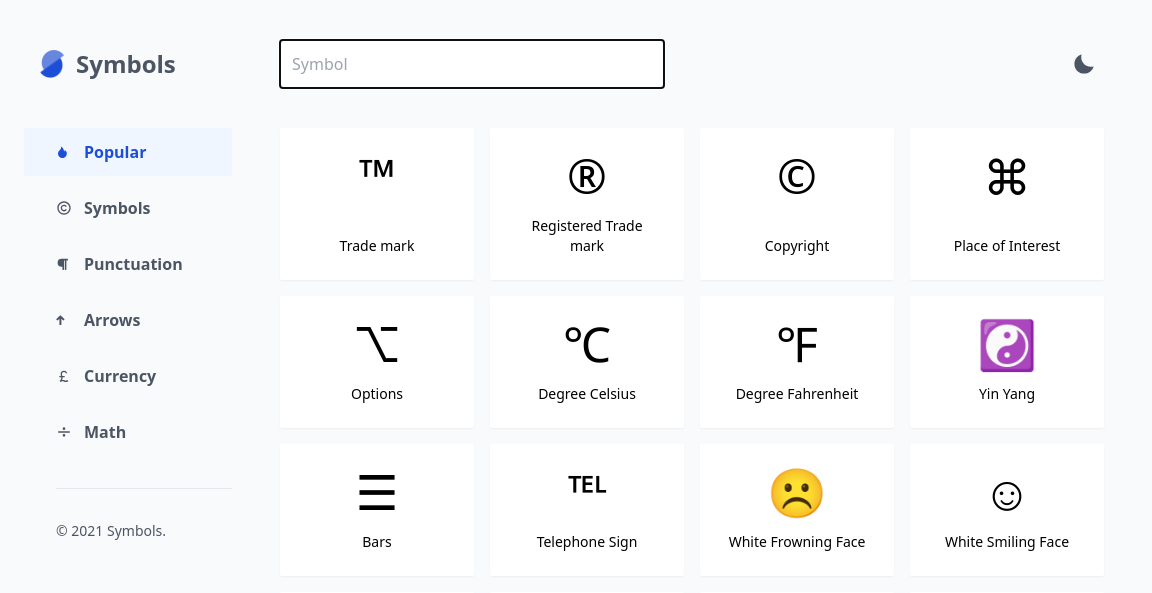
Scenario: Filter › Selects another category when clicked.
Expected: the text "⌘" is shown, [983, 152, 1031, 200]
Click the button "Math".
click(128, 432)  # box [24, 408, 232, 456]
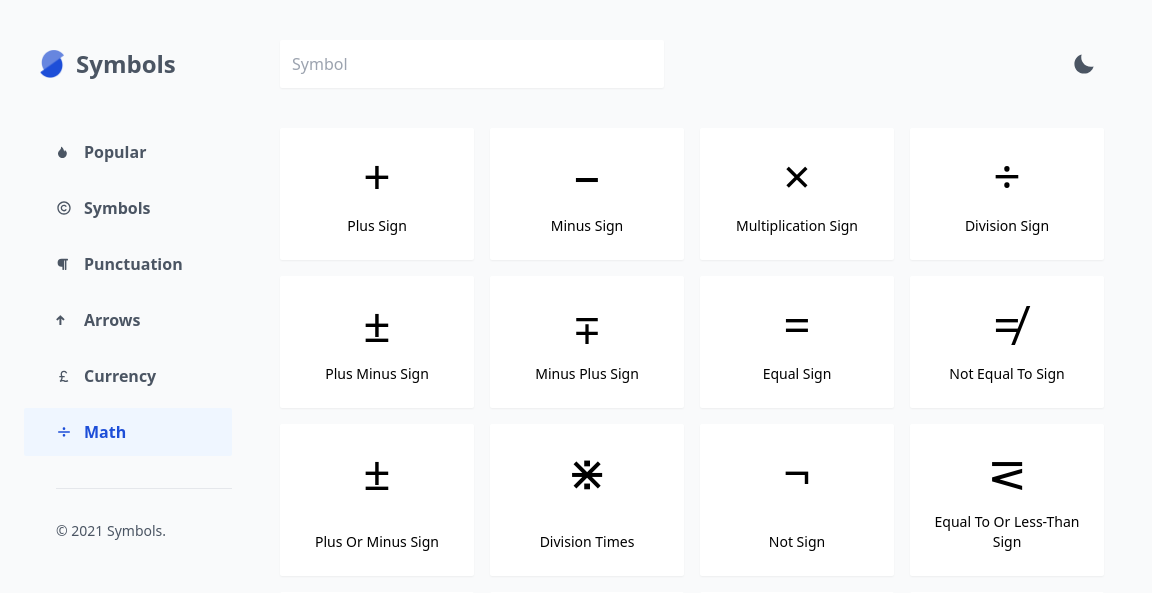
Result: the button "⌘" is gone
Result: the text "+" is shown at [363, 152, 391, 200]
